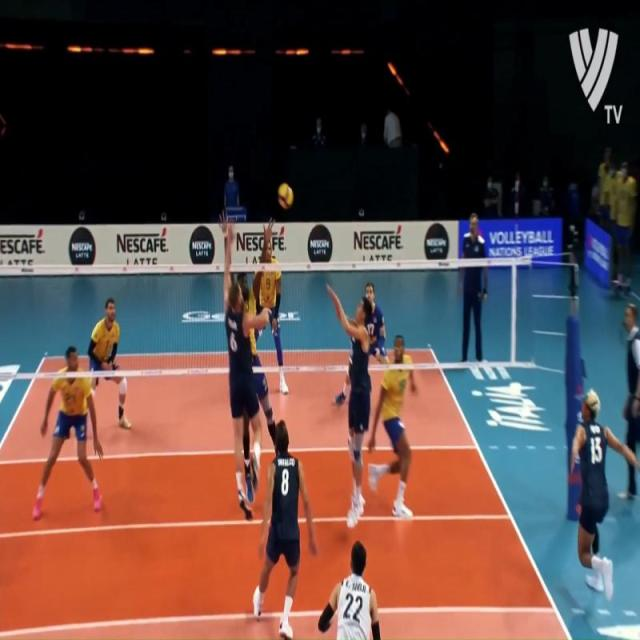volleyball: (278, 182, 294, 210)
